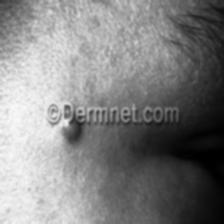Potentially Malignant Skin Tumors: (63, 118, 83, 140)
